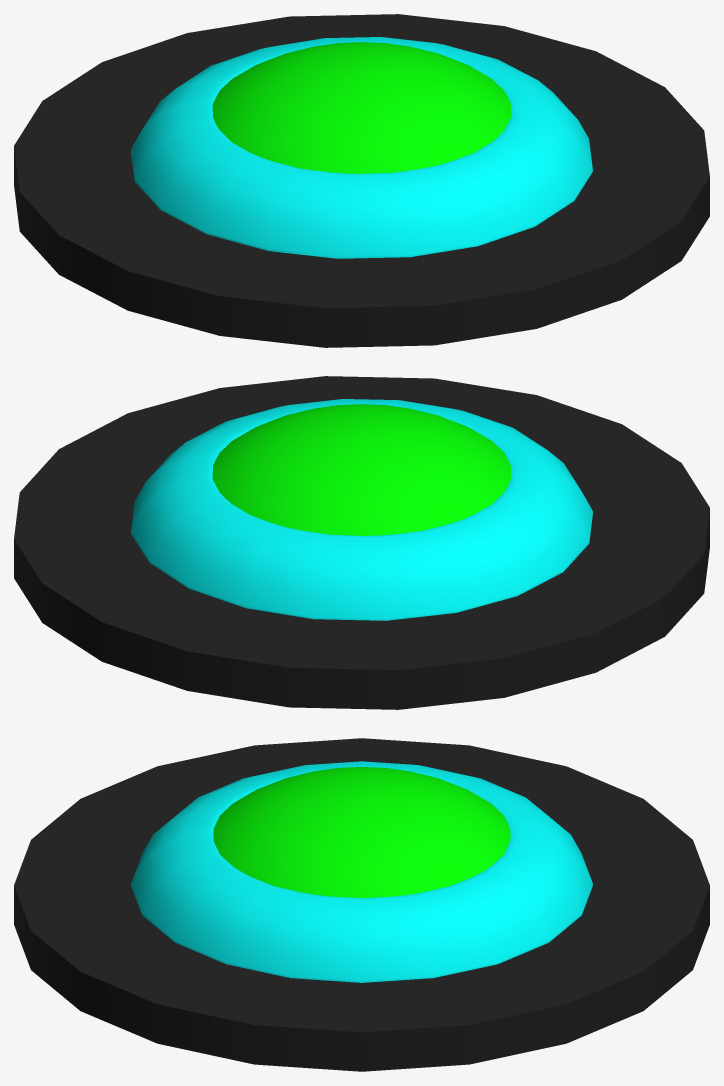
File: ufo.obj
3 renders of one model, top to bottom at view 1: azimuth 30°, elevation 25°; view 2: azimuth 150°, elevation 25°; view 3: azimuth 270°, elevation 25°, orthographic.
Visible parts, largest first — view 1: pCylinder2; view 2: pCylinder2; view 3: pCylinder2.
Part boxes in pixels (bbox=[...]): pCylinder2: bbox=[14, 14, 709, 347]; pCylinder2: bbox=[14, 376, 709, 709]; pCylinder2: bbox=[14, 738, 709, 1071].
Bounding box in the file's own units: 2 × 0.7095 × 2.
